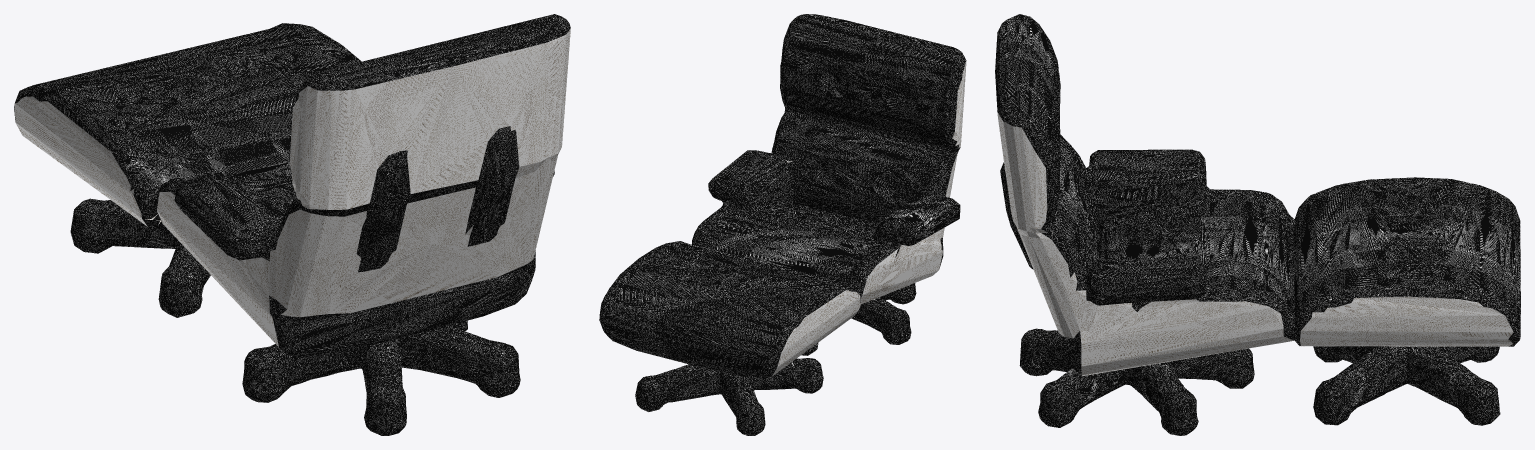
3 views of the same model, side by side, from view 1: azimuth 30°, elevation 25°; view 2: azimuth 150°, elevation 25°; view 3: azimuth 270°, elevation 25° (orthographic). The views are drawn at different scales.
Visible parts, largest first — view 1: mesh10_mesh10-geometry, mesh1_mesh1-geometry, mesh4_mesh4-geometry, mesh8_mesh8-geometry, mesh9_mesh9-geometry; view 2: mesh1_mesh1-geometry, mesh8_mesh8-geometry, mesh10_mesh10-geometry, mesh9_mesh9-geometry, mesh4_mesh4-geometry; view 3: mesh1_mesh1-geometry, mesh10_mesh10-geometry, mesh4_mesh4-geometry, mesh8_mesh8-geometry, mesh9_mesh9-geometry.
Boxes of the visible parts, x1=… form: mesh10_mesh10-geometry: x1=157, y1=29, x2=570, y2=346; mesh1_mesh1-geometry: x1=14, y1=14, x2=570, y2=272; mesh4_mesh4-geometry: x1=242, y1=251, x2=535, y2=435; mesh8_mesh8-geometry: x1=70, y1=198, x2=210, y2=317; mesh9_mesh9-geometry: x1=14, y1=96, x2=161, y2=226; mesh1_mesh1-geometry: x1=599, y1=14, x2=966, y2=378; mesh8_mesh8-geometry: x1=635, y1=358, x2=823, y2=435; mesh10_mesh10-geometry: x1=785, y1=61, x2=966, y2=304; mesh9_mesh9-geometry: x1=772, y1=290, x2=860, y2=376; mesh4_mesh4-geometry: x1=801, y1=238, x2=943, y2=355; mesh1_mesh1-geometry: x1=995, y1=14, x2=1520, y2=346; mesh10_mesh10-geometry: x1=997, y1=112, x2=1293, y2=376; mesh4_mesh4-geometry: x1=1019, y1=328, x2=1254, y2=435; mesh8_mesh8-geometry: x1=1313, y1=346, x2=1500, y2=425; mesh9_mesh9-geometry: x1=1300, y1=296, x2=1513, y2=346.
Size of the model in its own units: 0.4511 by 0.5047 by 0.736.
3 materials, 1 textured.
